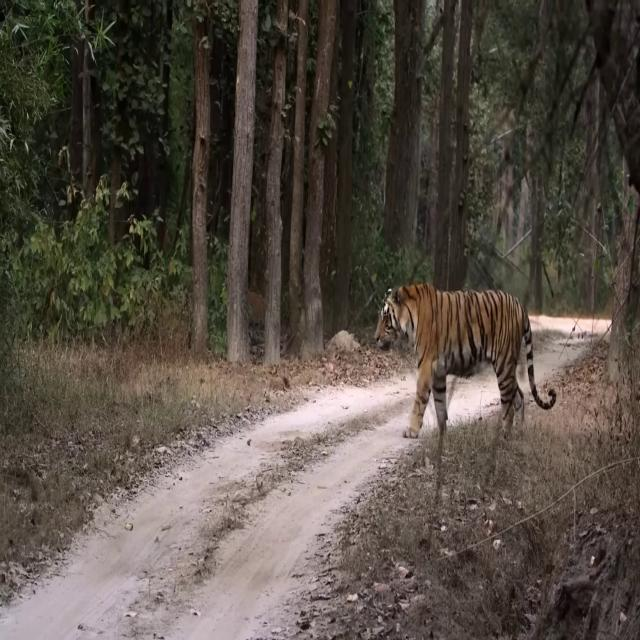tiger: (374, 282, 557, 439)
